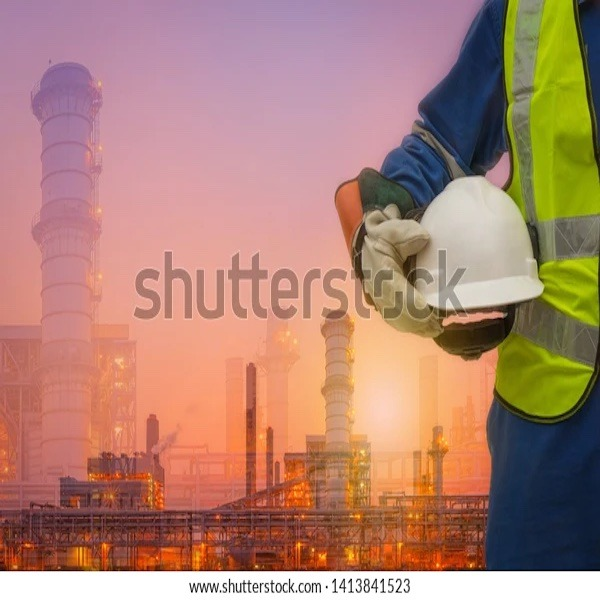helmet: (411, 184, 540, 309)
vest: (507, 7, 596, 403)
